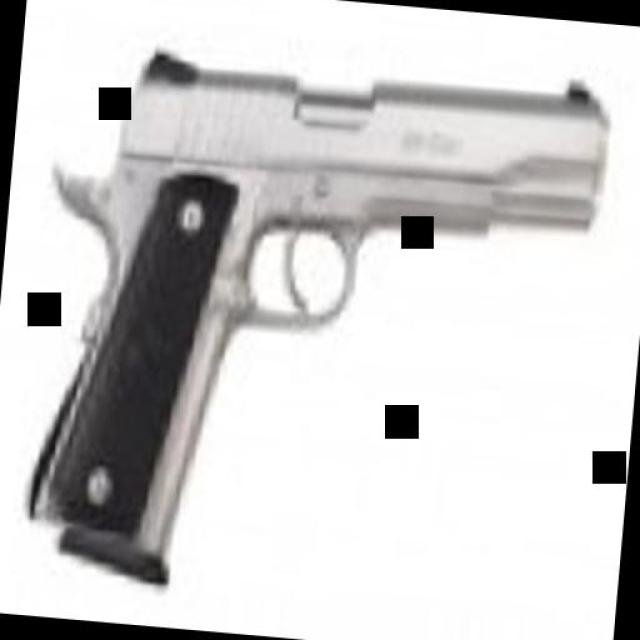gun: (18, 38, 612, 608)
